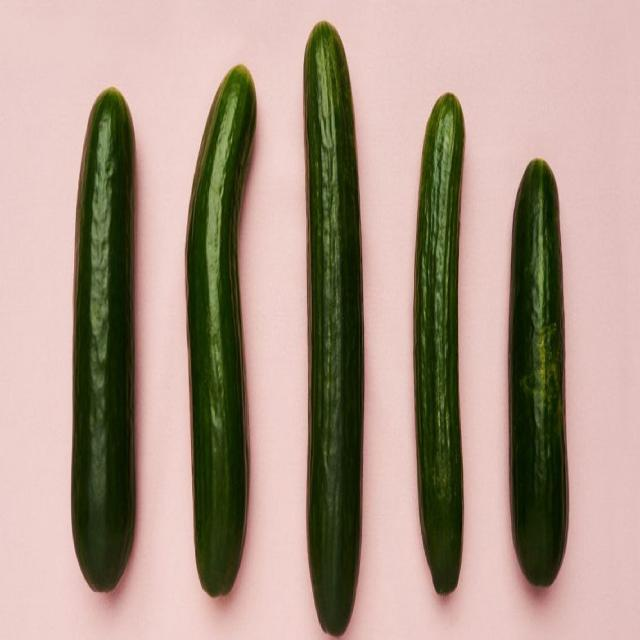cucumber: (300, 18, 369, 639), (181, 61, 258, 604), (69, 86, 137, 596), (410, 87, 467, 602), (508, 154, 570, 594)
